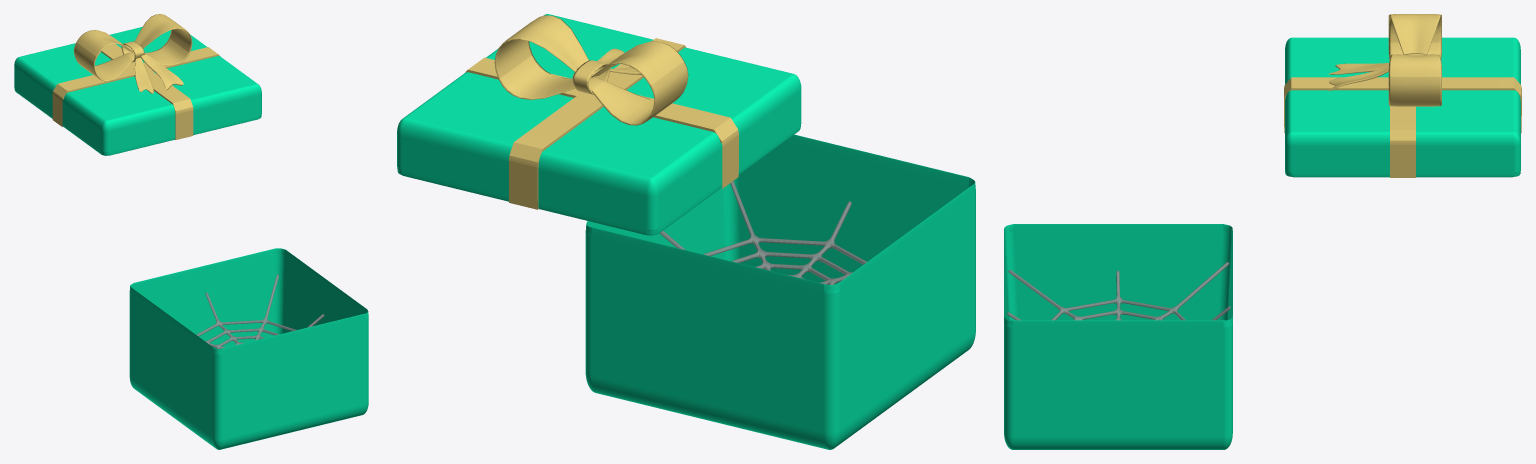
3 renders of one model, left to right at view 1: azimuth 30°, elevation 25°; view 2: azimuth 150°, elevation 25°; view 3: azimuth 270°, elevation 25°, orthographic. The views are drawn at different scales.
Parts seen in each view (by area): view 1: box2, boxTop, bowTop, Plane, Plane001, spiderweb; view 2: box2, boxTop, bowTop, Plane, Plane001, spiderweb; view 3: box2, boxTop, bowTop, Plane, spiderweb, Plane001.
Part boxes in pixels (x1,y1,x2,y2): box2: (129, 248, 368, 449); boxTop: (14, 27, 261, 155); bowTop: (73, 14, 192, 93); Plane: (101, 43, 193, 139); Plane001: (52, 47, 220, 126); spiderweb: (196, 274, 324, 348); box2: (585, 134, 975, 449); boxTop: (397, 14, 801, 235); bowTop: (494, 15, 688, 125); Plane: (509, 38, 685, 209); Plane001: (465, 57, 738, 188); spiderweb: (659, 181, 866, 284); box2: (1004, 224, 1232, 449); boxTop: (1285, 37, 1520, 177); bowTop: (1328, 14, 1441, 106); Plane: (1284, 77, 1521, 133); spiderweb: (1007, 262, 1230, 320); Plane001: (1390, 106, 1415, 177).
Bounding box in the file's own units: 0.7434 × 1.27 × 1.62.
